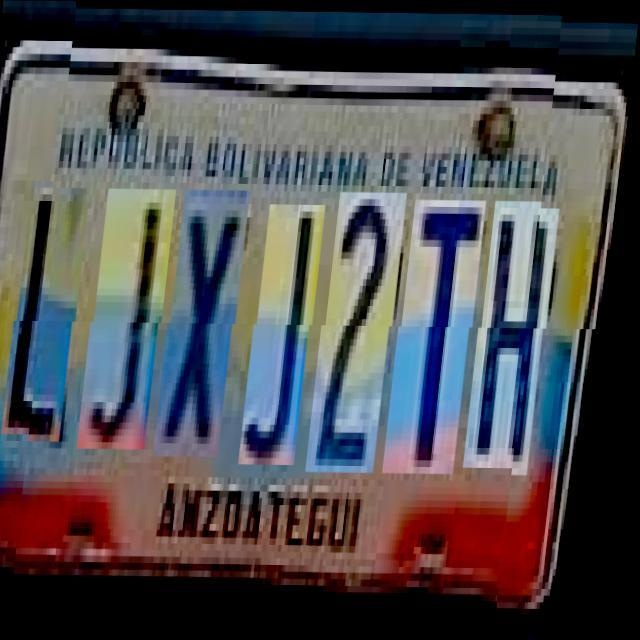2: (319, 190, 412, 472)
H: (476, 199, 564, 466)
J: (90, 188, 180, 449), (252, 203, 330, 464)
L: (14, 188, 94, 442)
T: (396, 198, 491, 472)
X: (166, 189, 255, 456)
